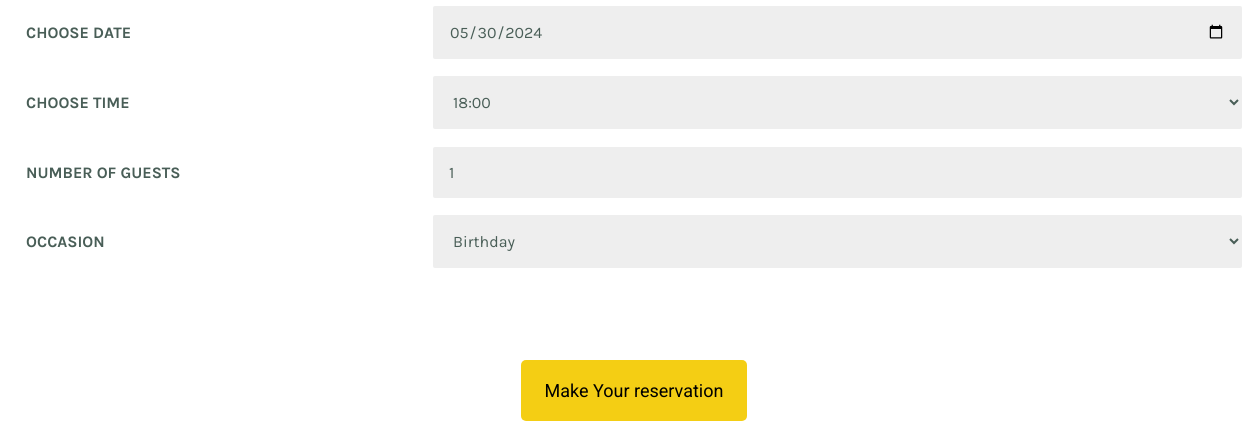
Test: BookingForm › renders error message when number of guests input is invalid
Clear the number field labelled "Number of Guests": (837, 172) [433,147,1242,198]
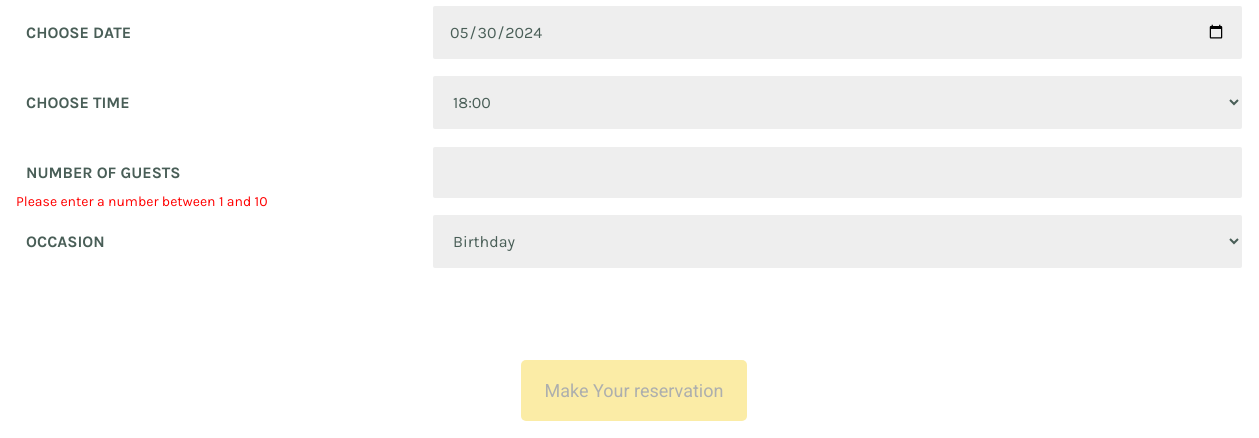
Check: the text "Please enter a number between 1 and 10" is shown, box [16,193,268,210]
